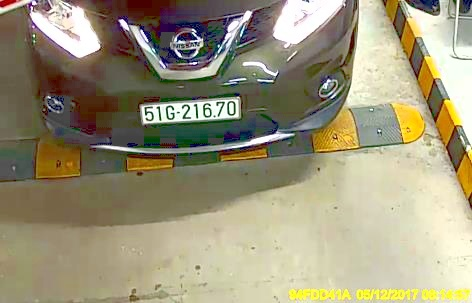plate: (135, 95, 249, 128)
